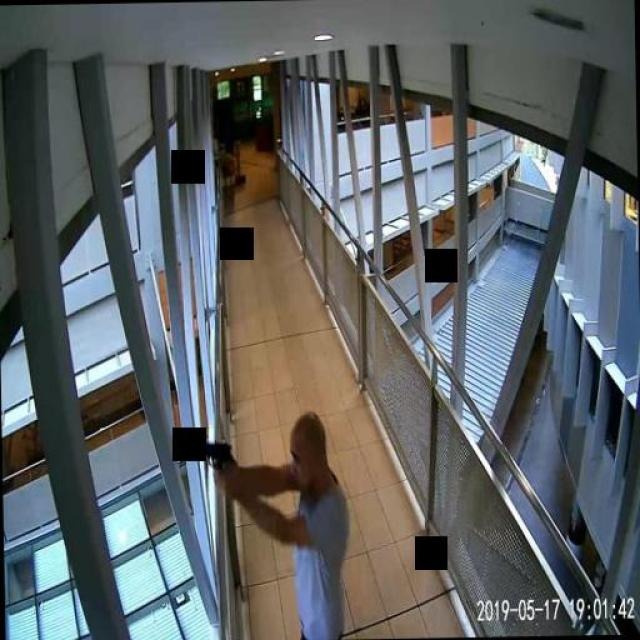gun: (186, 436, 232, 490)
